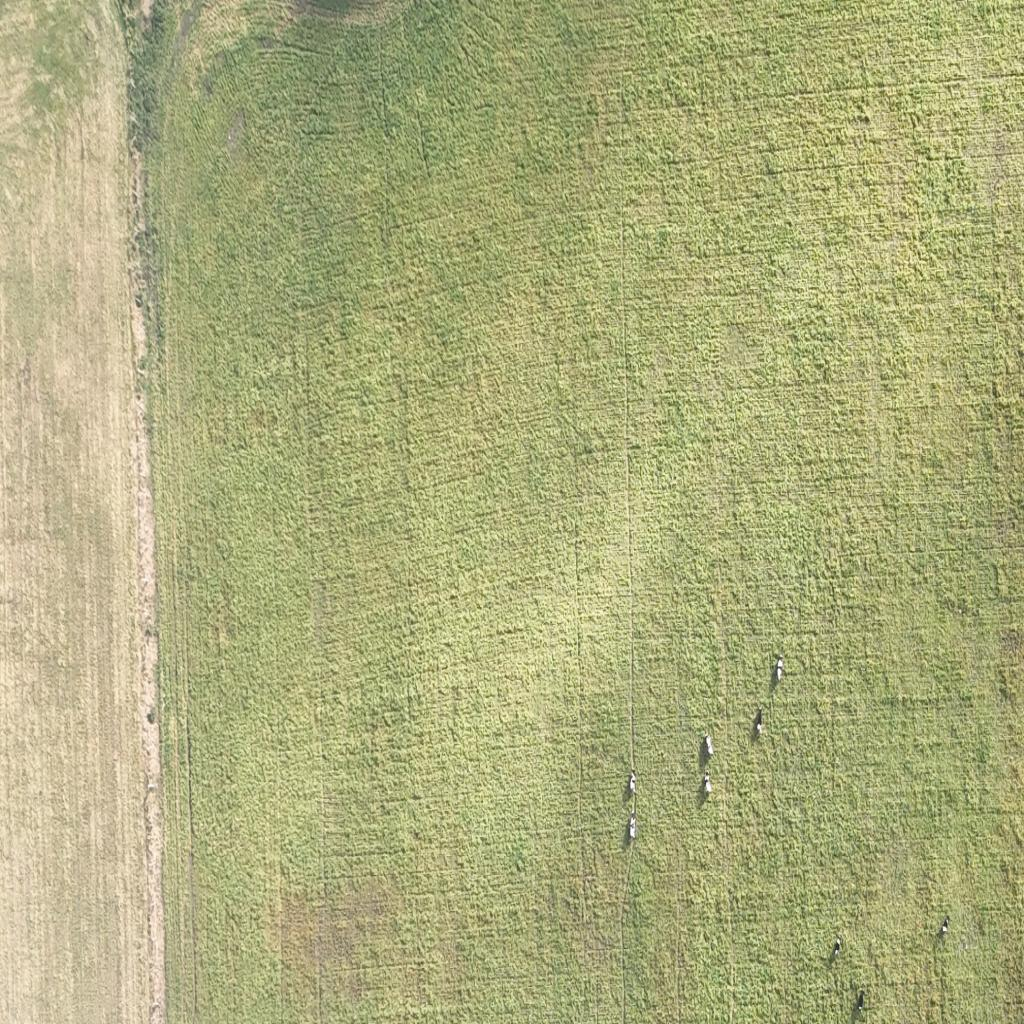cow: (756, 707, 764, 734), (705, 734, 714, 756), (704, 773, 712, 794), (941, 916, 949, 936), (776, 659, 783, 681), (630, 815, 636, 839), (859, 992, 866, 1012), (834, 938, 841, 958), (630, 771, 636, 793)
